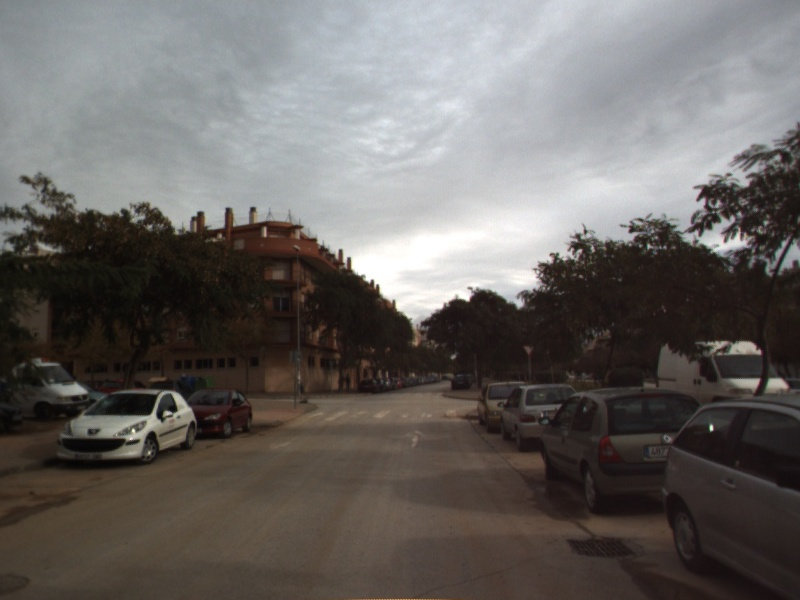STRAIGHT: (401, 427, 430, 450)
